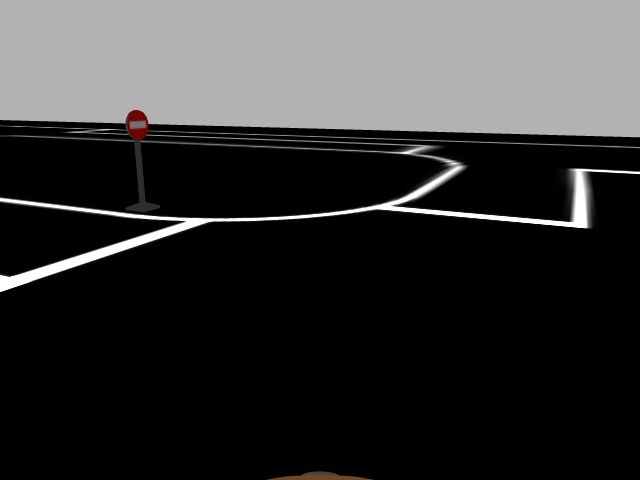prohibited: (125, 109, 149, 140)
